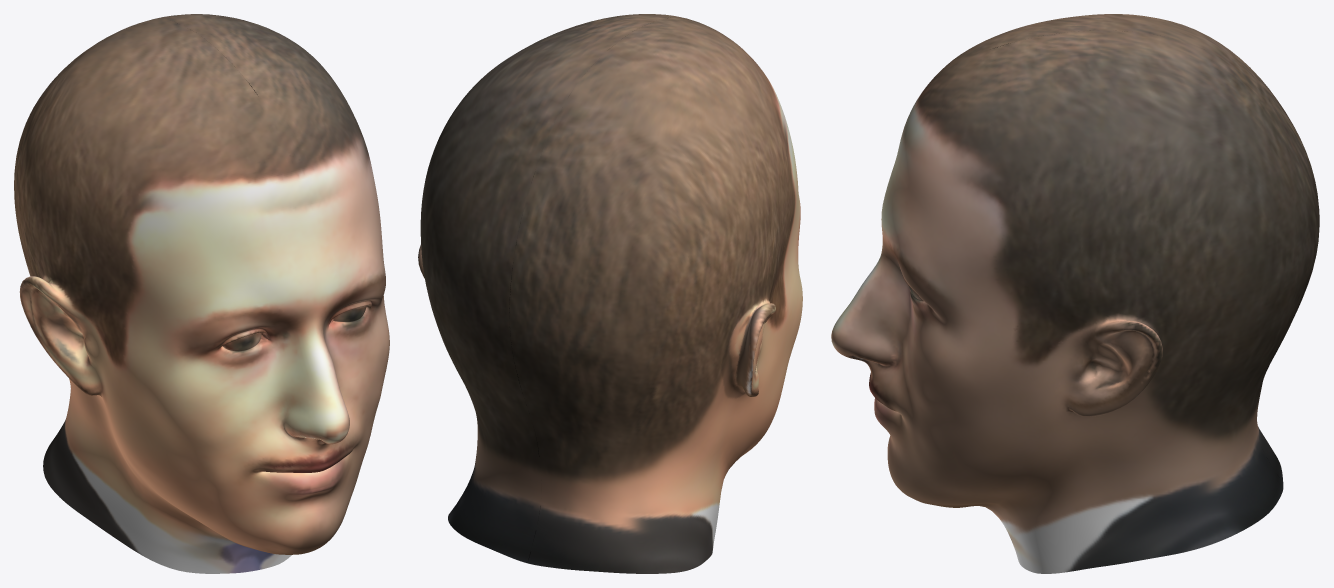
The picture shows the model from 3 angles, left to right: view 1: azimuth 30°, elevation 25°; view 2: azimuth 150°, elevation 25°; view 3: azimuth 270°, elevation 25°; orthographic projection. The views are drawn at different scales.
Parts seen in each view (by area): view 1: FaceBuilderHead; view 2: FaceBuilderHead; view 3: FaceBuilderHead.
Boxes of the visible parts, x1=… form: FaceBuilderHead: x1=14, y1=14, x2=389, y2=573; FaceBuilderHead: x1=418, y1=14, x2=802, y2=573; FaceBuilderHead: x1=831, y1=14, x2=1319, y2=573.
Size of the model in its own units: 1.33 by 1.96 by 1.69.
Materials: 1 (1 with a texture image).
